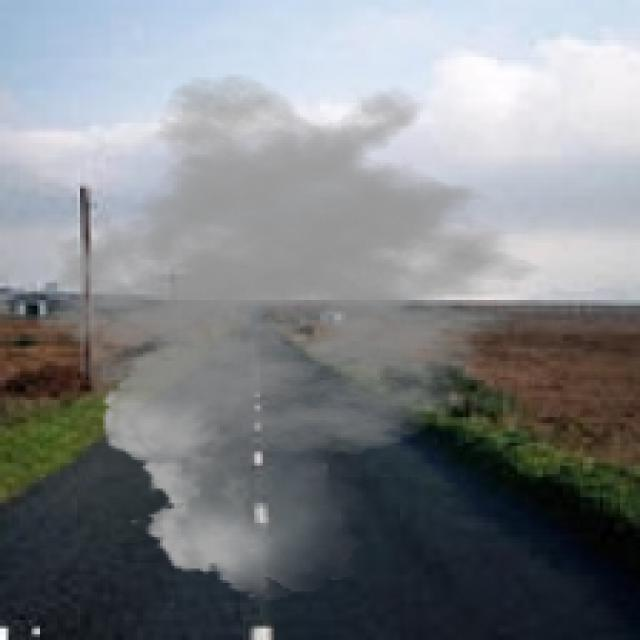smoke: (34, 71, 569, 600)
